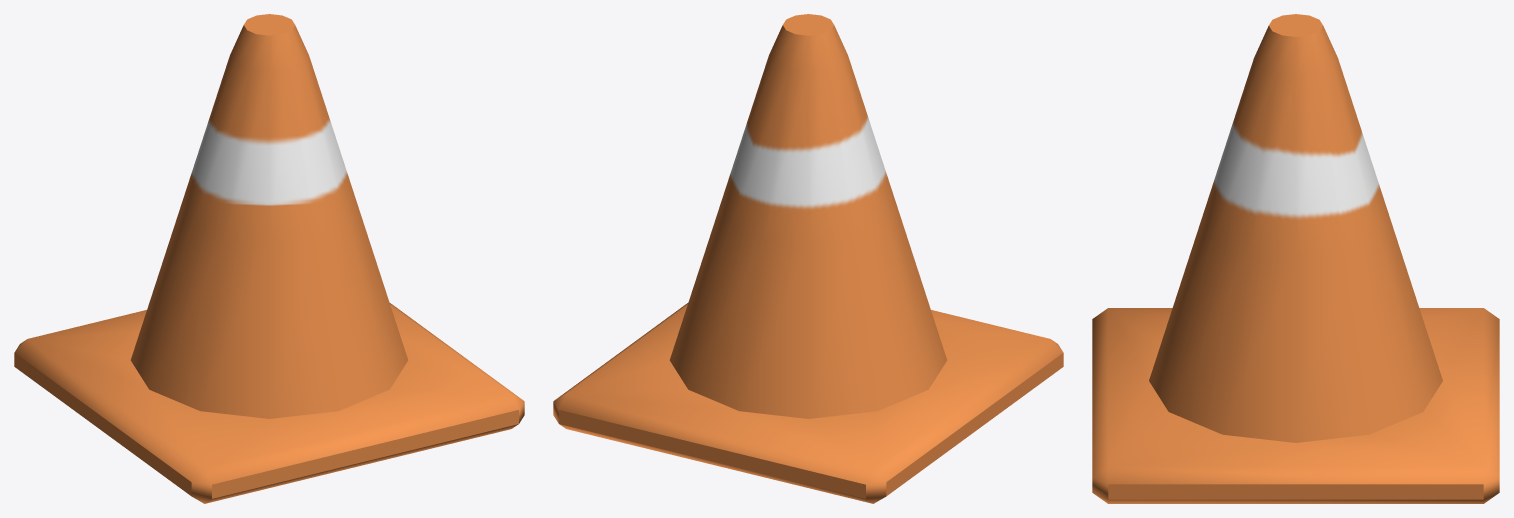
Rendered from 三角錐.FBX.
3 renders of one model, left to right at view 1: azimuth 30°, elevation 25°; view 2: azimuth 150°, elevation 25°; view 3: azimuth 270°, elevation 25°, orthographic. The views are drawn at different scales.
Visible parts, largest first — view 1: Cone; view 2: Cone; view 3: Cone.
Part boxes in pixels (x1,y1,x2,y2): Cone: (14,14,524,503); Cone: (553,14,1063,503); Cone: (1092,14,1499,503).
Size of the model in its own units: 52.32 by 56.61 by 52.32.
Materials: 1 (1 with a texture image).
